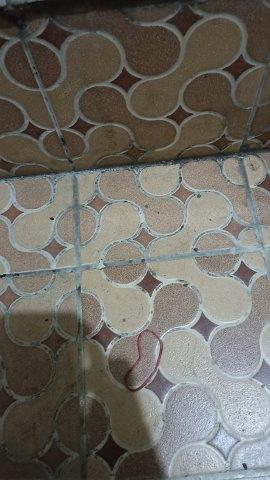karet: (124, 330, 165, 392)
